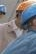gloves: (24, 41, 36, 54), (24, 42, 36, 54)
hard-hat: (28, 15, 36, 25)
